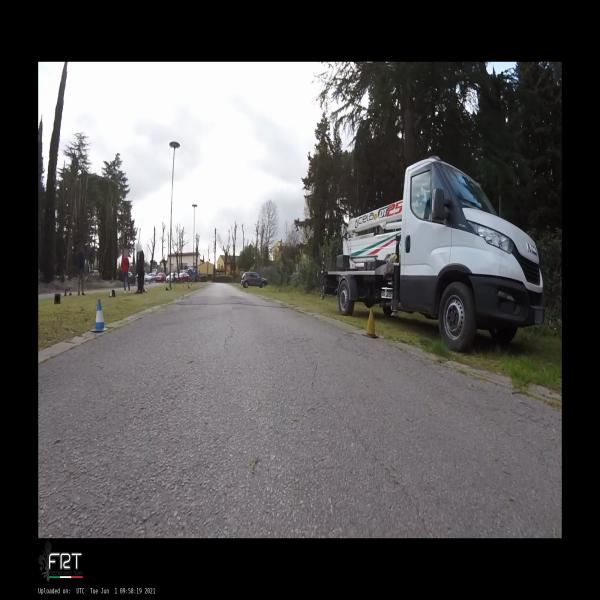blue_cone: (91, 299, 108, 332)
large_orange_cone: (69, 286, 72, 296)
orange_cone: (109, 290, 116, 297)
unknown_cone: (362, 308, 380, 338), (54, 294, 61, 304), (64, 289, 66, 296), (166, 287, 169, 291), (170, 284, 172, 290)
